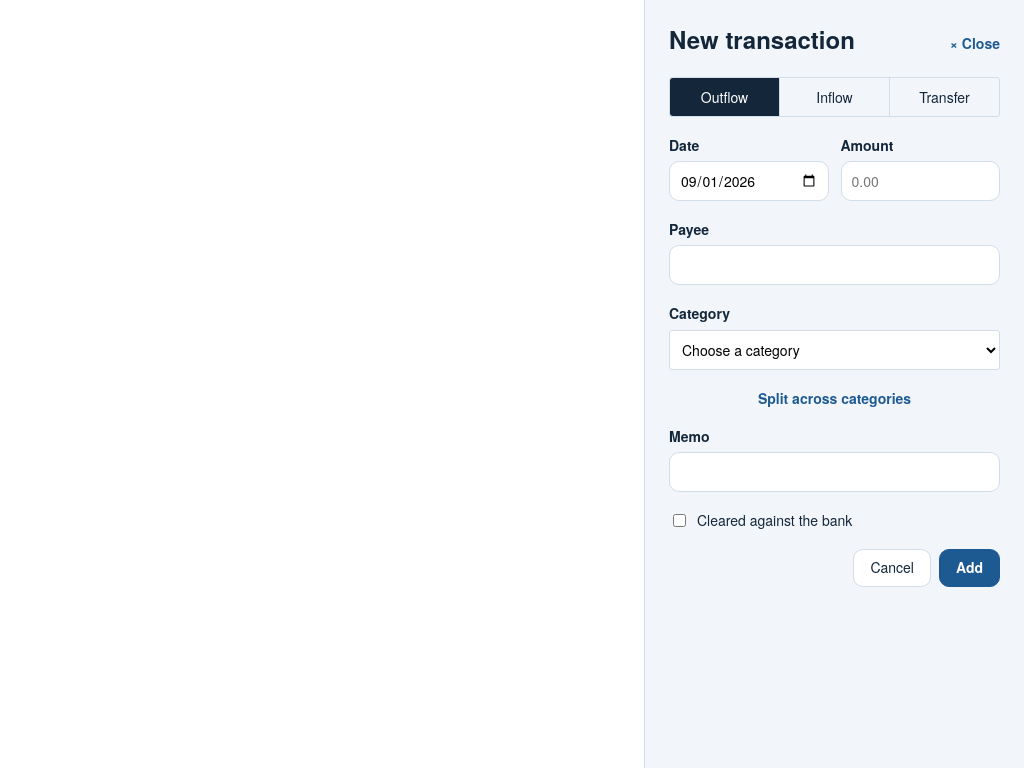
it: TransactionForm (#54) › requires a category for an outflow
Type "10.00" into the field labelled "Amount" at (920, 181), box [840,161,1000,201]
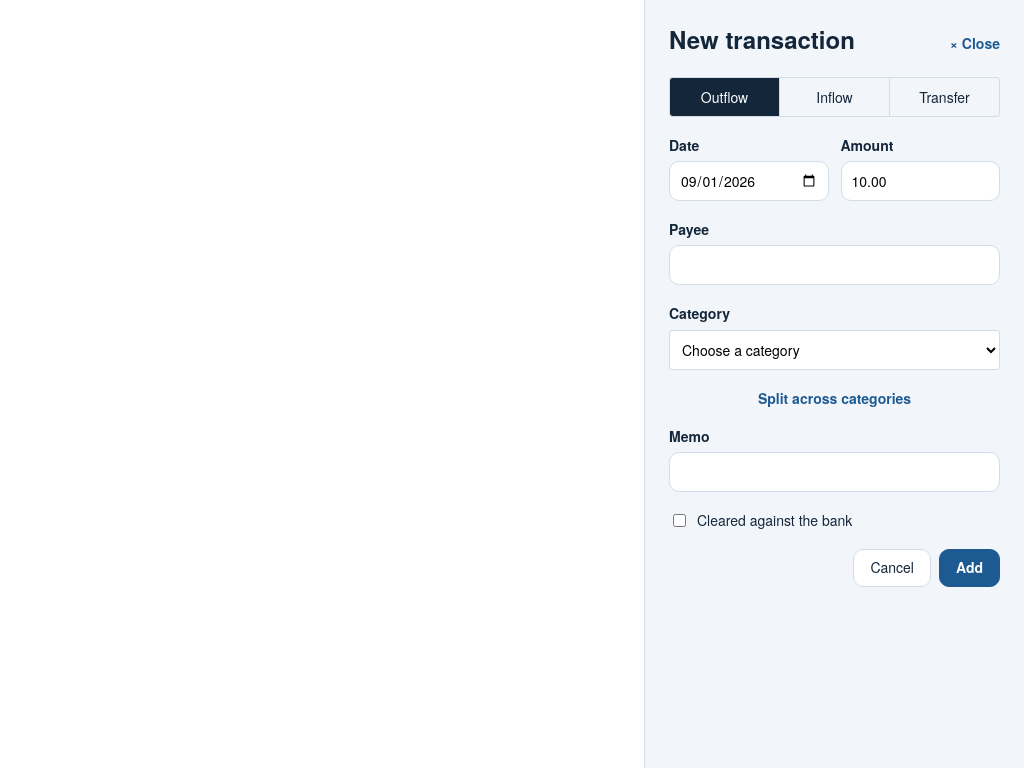
Click the button "Add" at (970, 568), box [939,549,1000,587]
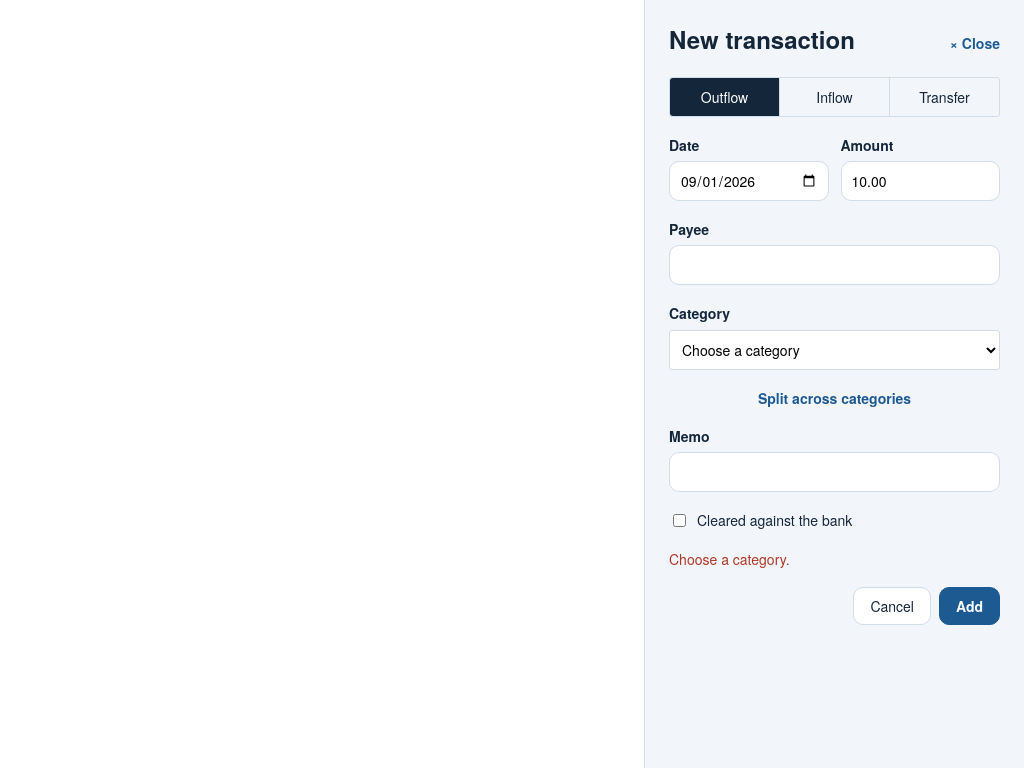
Now the message reads "Choose a category.", box [669,549,790,569]
